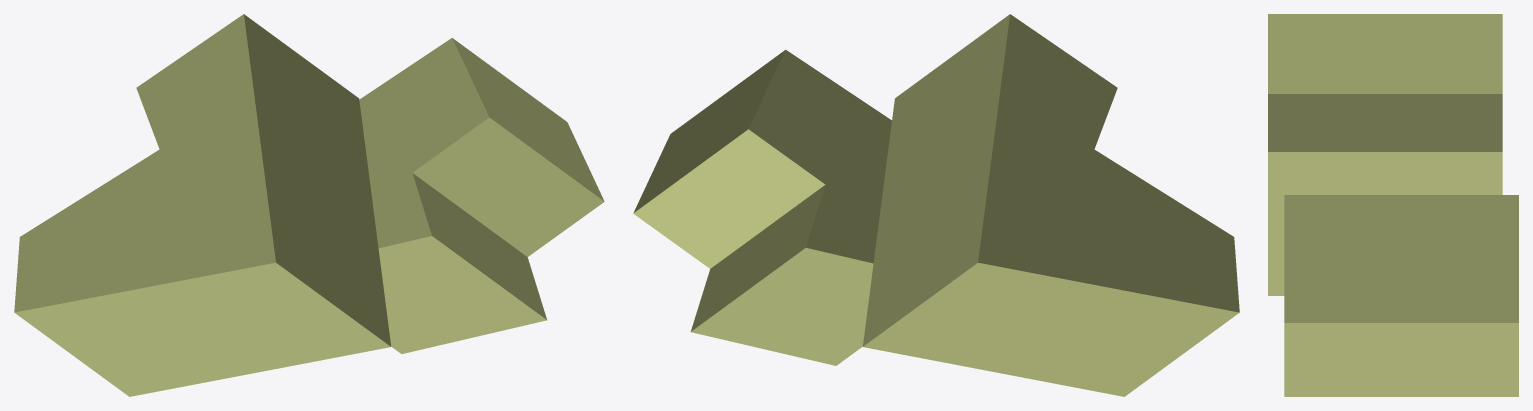
3 views of the same model, side by side, from view 1: azimuth 30°, elevation 25°; view 2: azimuth 150°, elevation 25°; view 3: azimuth 270°, elevation 25° (orthographic).
Parts seen in each view (by area): view 1: 0_1_3_2_1_1_3_2_1_2; view 2: 0_1_3_2_1_1_3_2_1_2; view 3: 0_1_3_2_1_1_3_2_1_2.
Part boxes in pixels (x1,y1,x2,y2): 0_1_3_2_1_1_3_2_1_2: (14,14,604,396); 0_1_3_2_1_1_3_2_1_2: (633,14,1239,396); 0_1_3_2_1_1_3_2_1_2: (1268,14,1518,396).
Bounding box in the file's own units: 21.78 × 11.88 × 9.63.
